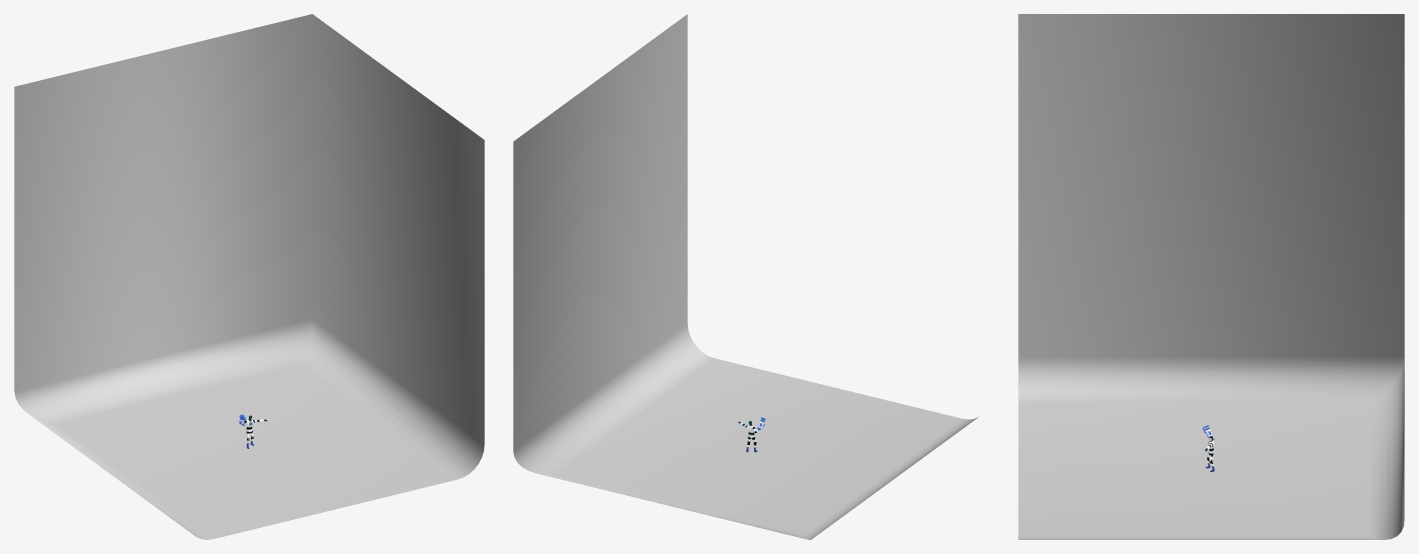
File: main_menu.glb
3 renders of one model, left to right at view 1: azimuth 30°, elevation 25°; view 2: azimuth 150°, elevation 25°; view 3: azimuth 270°, elevation 25°, orthographic. The views are drawn at different scales.
Parts seen in each view (by area): view 1: Plane; view 2: Plane; view 3: Plane.
Boxes of the visible parts, box(x1,y1,x2,y2) form: Plane: box(14, 14, 484, 539); Plane: box(513, 14, 978, 539); Plane: box(1018, 14, 1404, 539).
Size of the model in its own units: 20 by 21.36 by 20.
3 materials, 3 textured.
